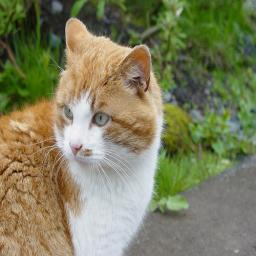catnose: (69, 138, 83, 156)
